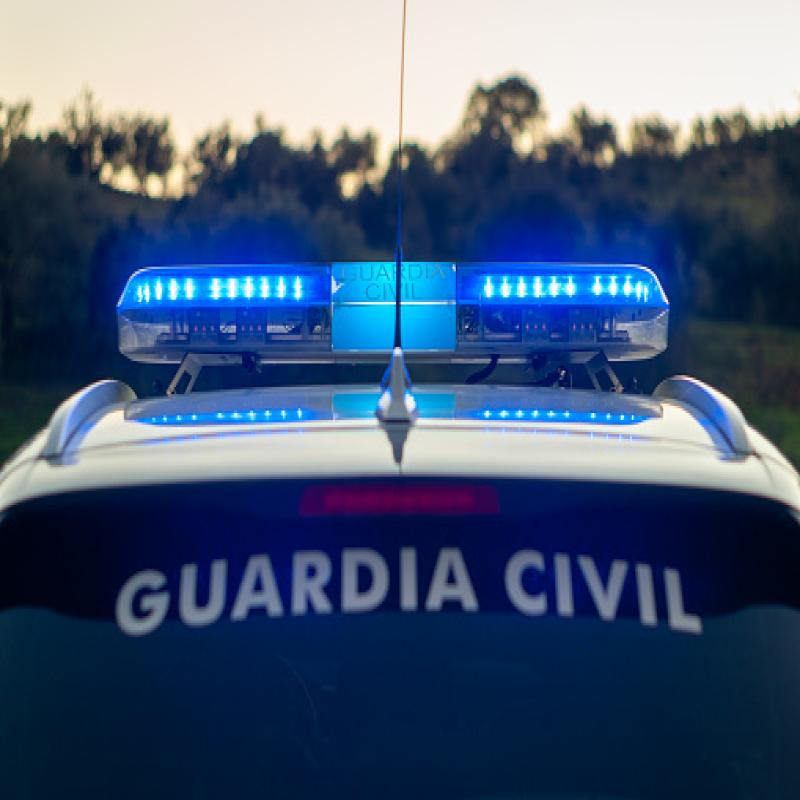AmbulanceSiren: (105, 231, 677, 410)
